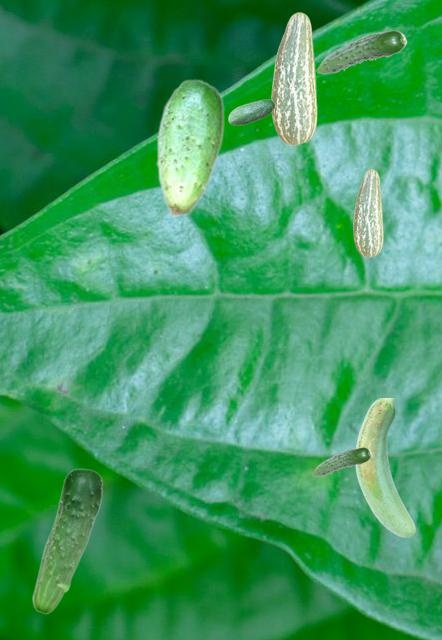cucumber: (31, 468, 102, 613), (156, 78, 223, 216), (355, 398, 414, 536), (271, 12, 316, 144), (316, 30, 406, 73), (353, 169, 382, 256), (312, 447, 371, 475), (228, 99, 274, 124)
